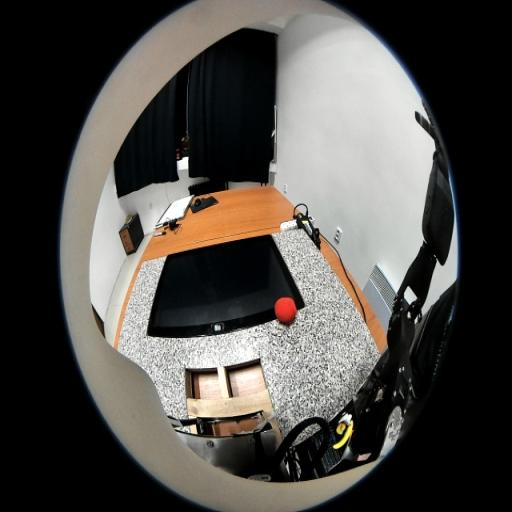Tomato: (274, 296, 297, 323)
